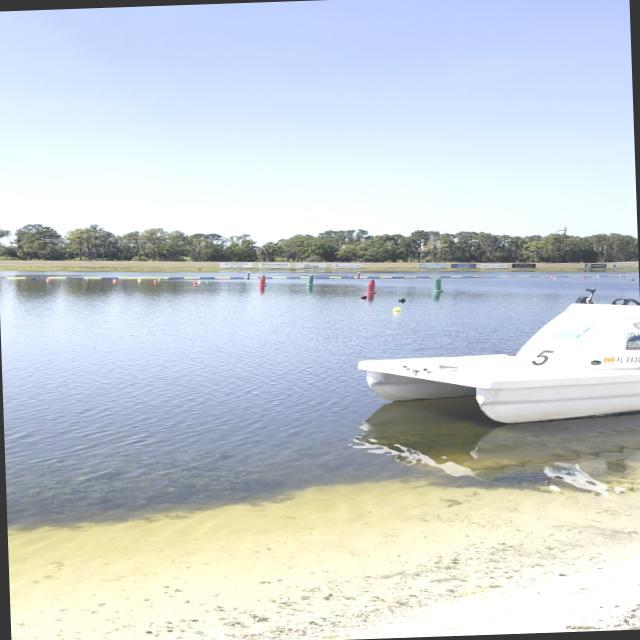buoy: (392, 306, 402, 312), (397, 297, 405, 301), (360, 294, 366, 298), (137, 278, 142, 281), (197, 280, 201, 282), (46, 278, 50, 280), (112, 278, 116, 280), (152, 280, 156, 282), (192, 281, 196, 283), (206, 280, 210, 282), (157, 278, 160, 280), (86, 277, 89, 279), (32, 277, 34, 279)
